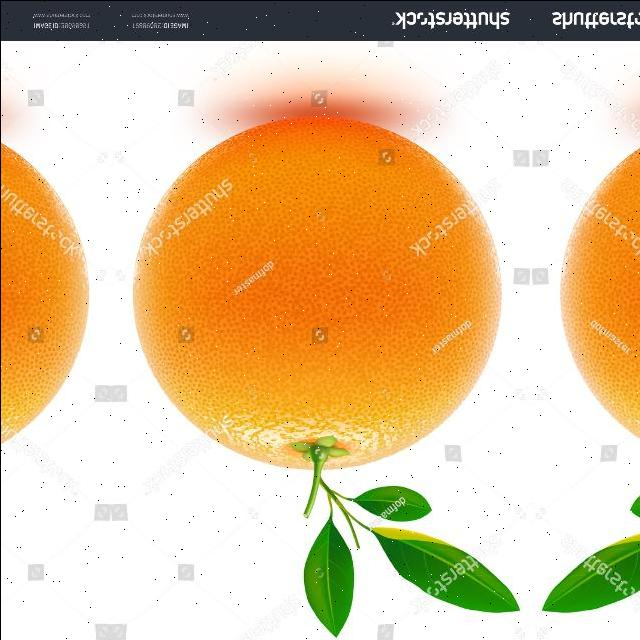Orange: (131, 114, 503, 472), (1, 135, 90, 447), (559, 142, 640, 443)
